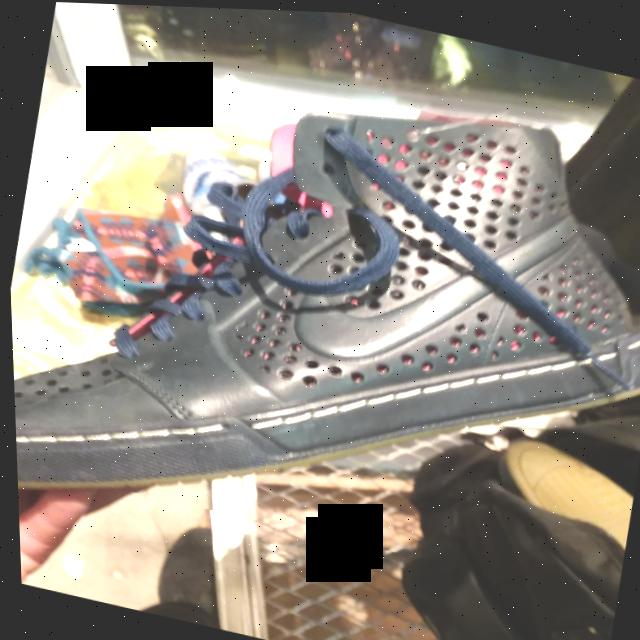shoe: (0, 3, 640, 600)
